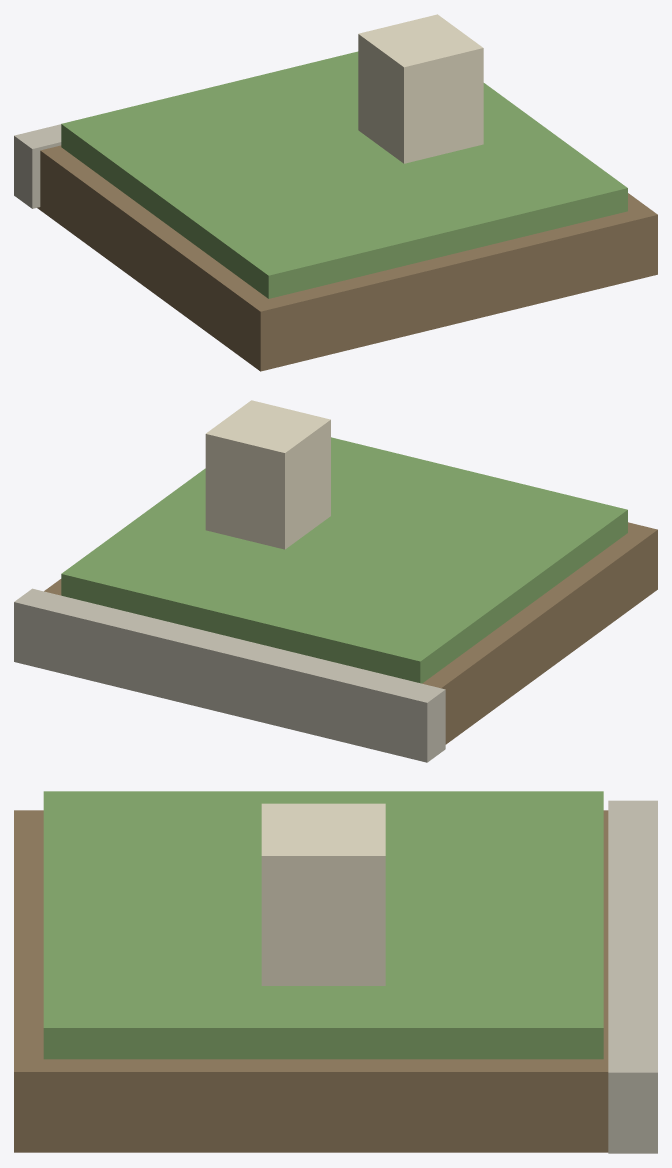
File: 26_LuongThuc.glb
3 renders of one model, top to bottom at view 1: azimuth 30°, elevation 25°; view 2: azimuth 150°, elevation 25°; view 3: azimuth 270°, elevation 25°, orthographic. The views are drawn at different scales.
Parts seen in each view (by area): view 1: grass, soil, sack, border; view 2: grass, border, soil, sack; view 3: grass, soil, sack, border.
Part boxes in pixels (box(x1,y1,x2,y2)): grass: box(61, 51, 627, 298); soil: box(37, 145, 657, 371); sack: box(358, 14, 483, 163); border: box(14, 124, 61, 208); grass: box(61, 437, 627, 683); border: box(14, 588, 445, 762); soil: box(44, 522, 657, 744); sack: box(205, 400, 330, 549); grass: box(43, 791, 603, 1059); soil: box(14, 810, 608, 1152); sack: box(261, 803, 385, 985); border: box(608, 800, 657, 1153).
Size of the model in its own units: 1.3 by 0.54 by 1.3.
